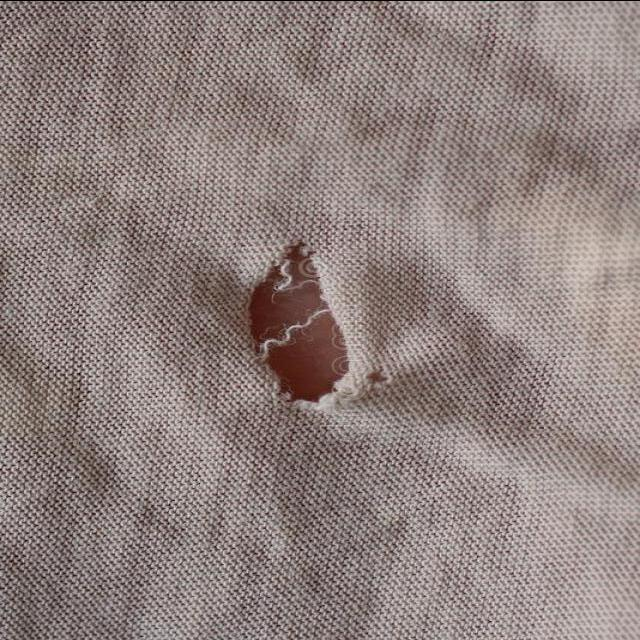hole: (240, 236, 370, 418)
